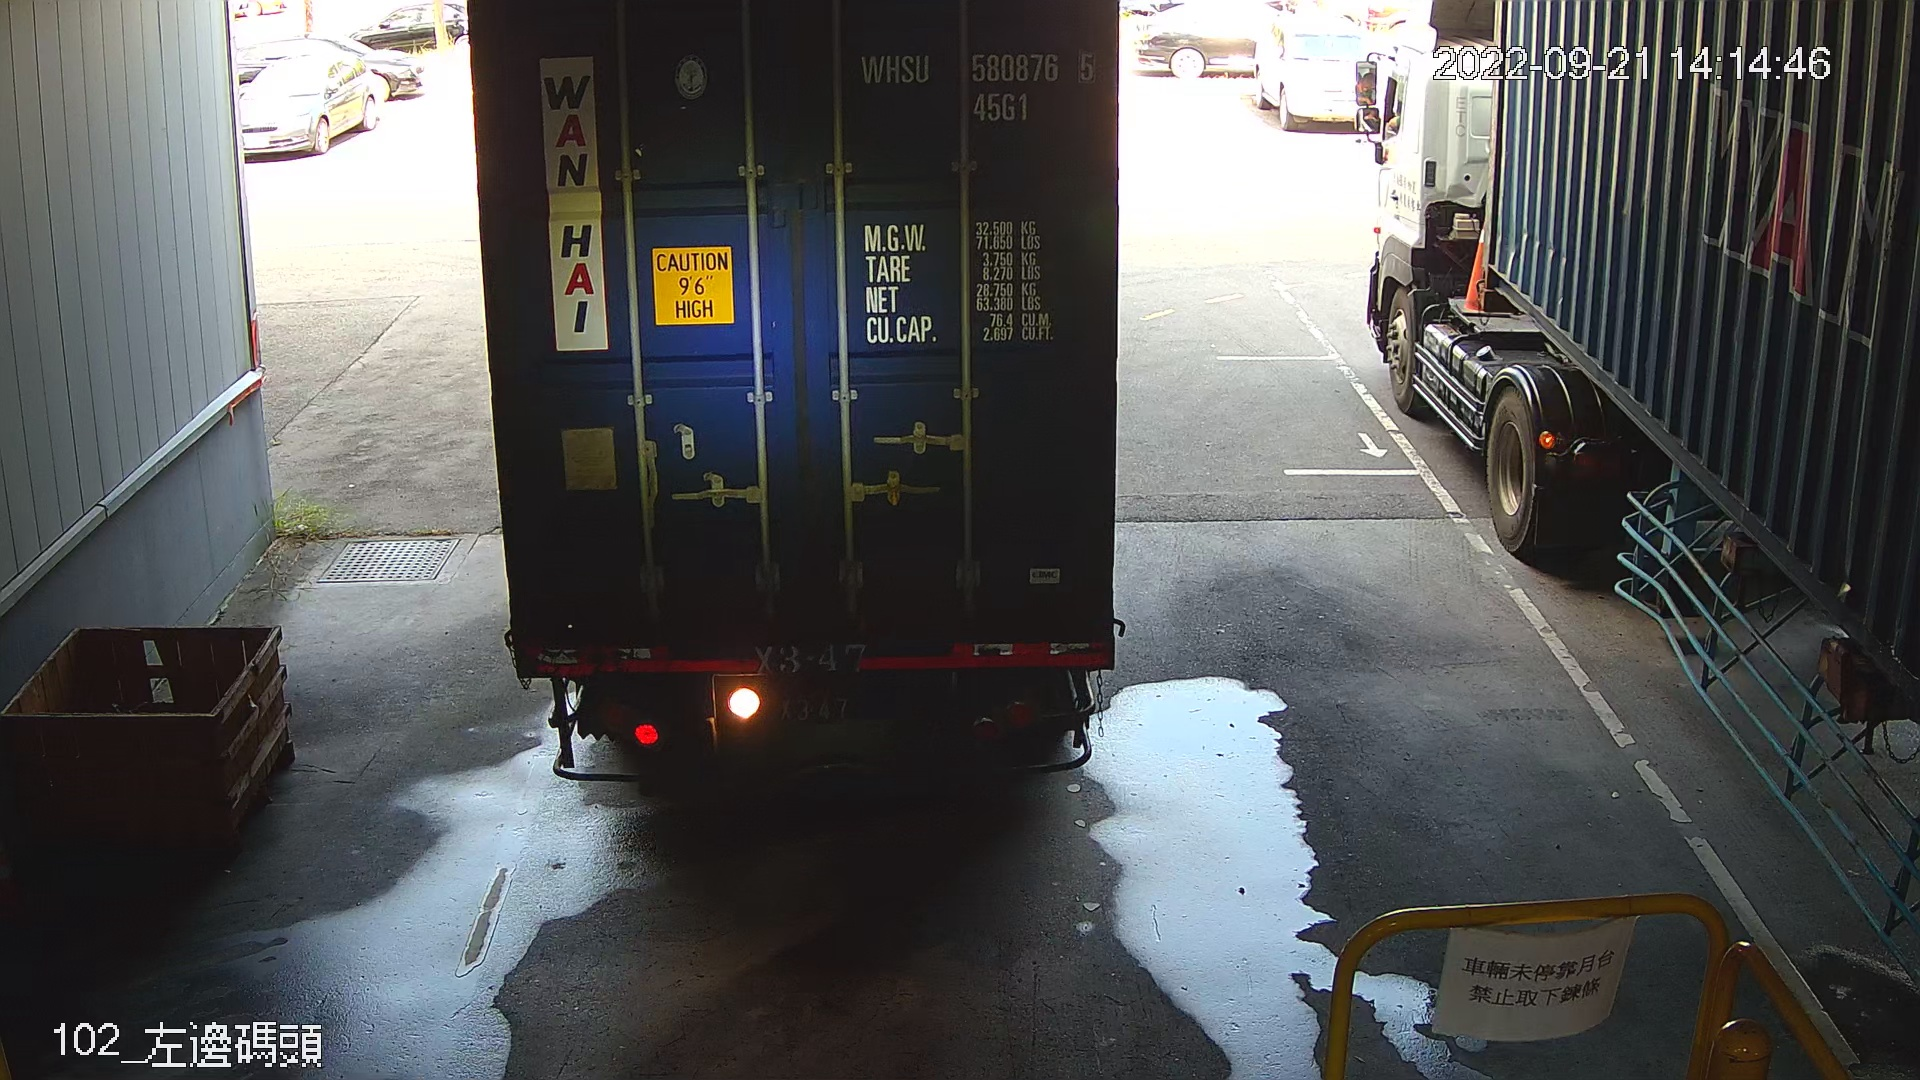container: (851, 41, 1104, 131)
